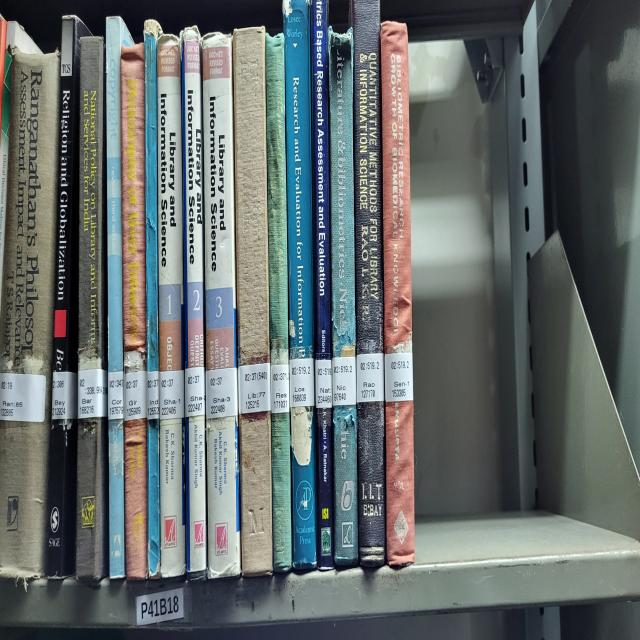Book: (0, 49, 60, 579), (48, 16, 90, 576), (232, 27, 272, 576), (106, 35, 145, 579), (202, 32, 240, 579), (350, 0, 386, 568), (381, 22, 415, 565), (284, 0, 316, 571), (76, 38, 109, 582), (329, 30, 359, 568), (158, 35, 185, 576), (180, 27, 206, 576), (265, 32, 291, 574), (311, 0, 332, 568), (144, 19, 161, 576), (124, 419, 148, 579), (250, 257, 251, 260)
Label: (0, 373, 46, 422), (238, 363, 271, 414), (206, 368, 238, 419), (78, 368, 108, 419), (356, 352, 385, 403), (385, 352, 414, 400), (51, 371, 78, 419), (289, 357, 315, 406), (124, 371, 148, 422), (159, 371, 184, 419), (332, 357, 356, 406), (185, 365, 205, 417), (270, 363, 290, 414), (315, 360, 332, 409), (108, 371, 124, 419), (146, 371, 159, 419)
